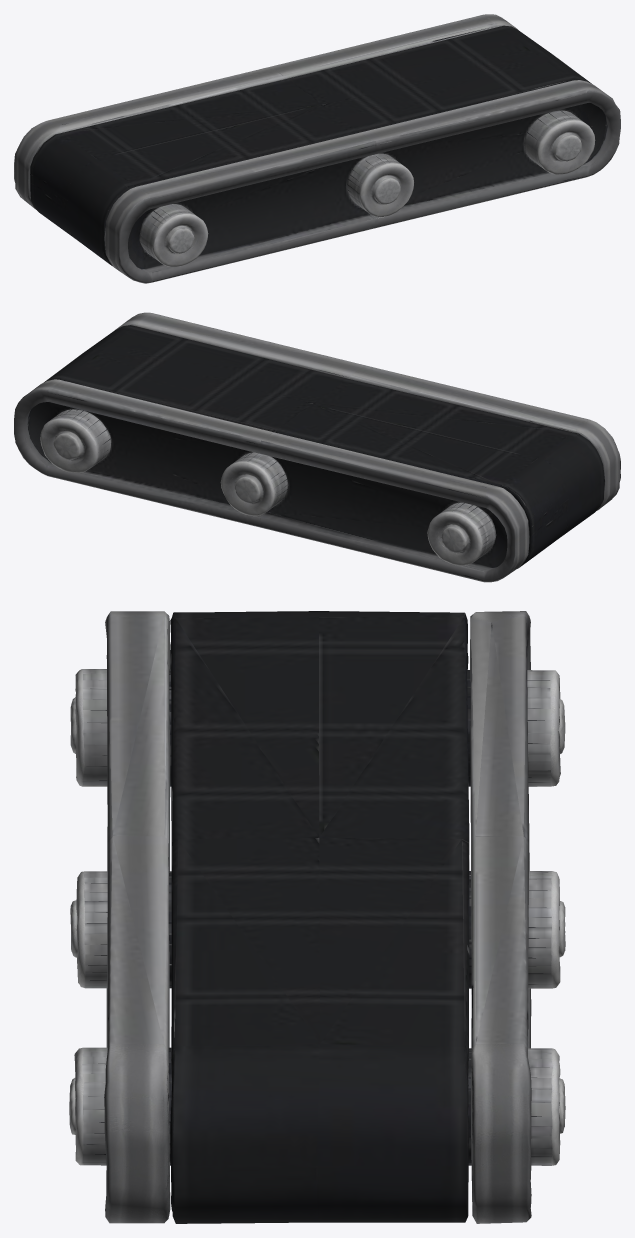
Rendered from s2_r5c1_short_straight_conveyor.glb.
3 views of the same model, one above another, from view 1: azimuth 30°, elevation 25°; view 2: azimuth 150°, elevation 25°; view 3: azimuth 270°, elevation 25° (orthographic). The views are drawn at different scales.
Bounding box in the file's own units: 1 × 0.1678 × 0.4292.
1 material, 1 textured.
